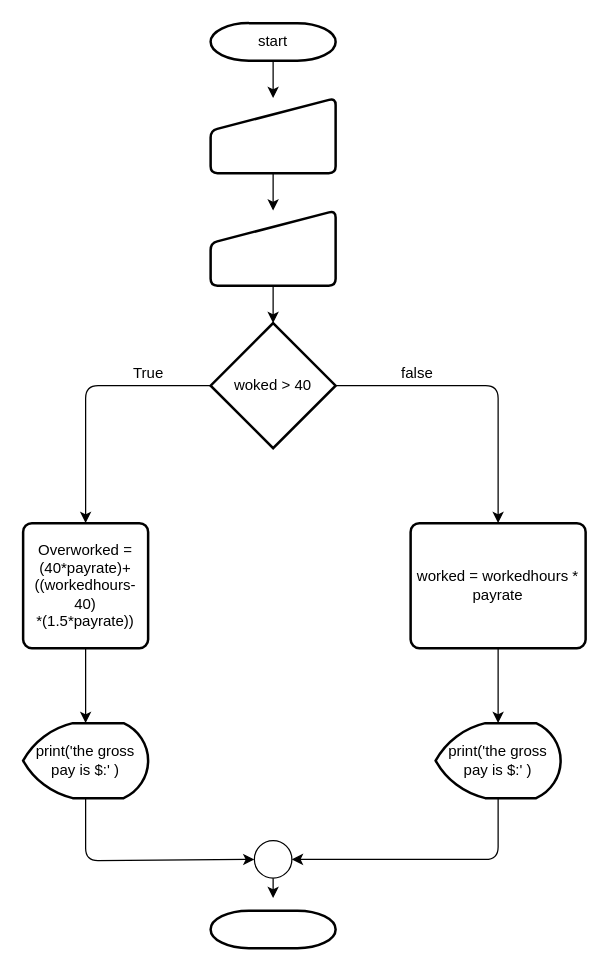
Some shapes in this 608 by 970 pixel diagram are drawn without their labels. The centre of each missing label's shape, as x and y in pixels:
End: point (272, 929)
payrate: point (272, 247)
workedhours: point (272, 135)
